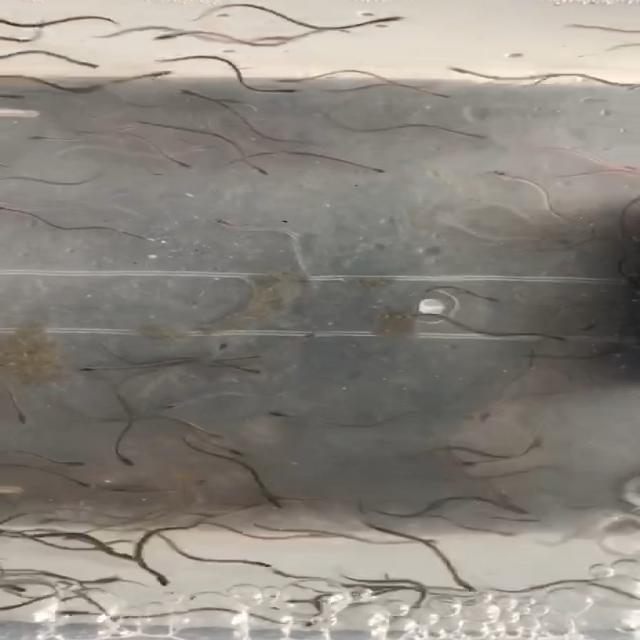active_glass_eel: (100, 135, 168, 162), (144, 24, 202, 48), (474, 288, 528, 312), (202, 209, 245, 238), (0, 176, 44, 204), (441, 123, 503, 142), (366, 14, 424, 31), (37, 526, 86, 546), (0, 585, 51, 604), (350, 157, 392, 180), (130, 66, 184, 83), (84, 552, 150, 565), (438, 581, 488, 598), (0, 86, 34, 110), (1, 409, 36, 432), (259, 68, 299, 88), (263, 408, 312, 424), (205, 559, 262, 572), (205, 340, 238, 362), (162, 85, 200, 104), (13, 128, 53, 146), (453, 449, 483, 473), (189, 425, 236, 440), (69, 364, 121, 377), (508, 232, 556, 246), (47, 605, 86, 622), (60, 450, 99, 467), (142, 570, 178, 588), (259, 81, 297, 98), (230, 361, 270, 377), (261, 33, 306, 47), (97, 572, 132, 590), (476, 168, 515, 184), (546, 328, 580, 346), (602, 584, 640, 600), (402, 599, 434, 617), (486, 503, 534, 515), (60, 62, 111, 73), (435, 63, 468, 79), (154, 399, 183, 416), (113, 455, 150, 468), (248, 161, 274, 179), (262, 499, 293, 514), (110, 482, 140, 497), (526, 435, 554, 451), (193, 505, 217, 520)
